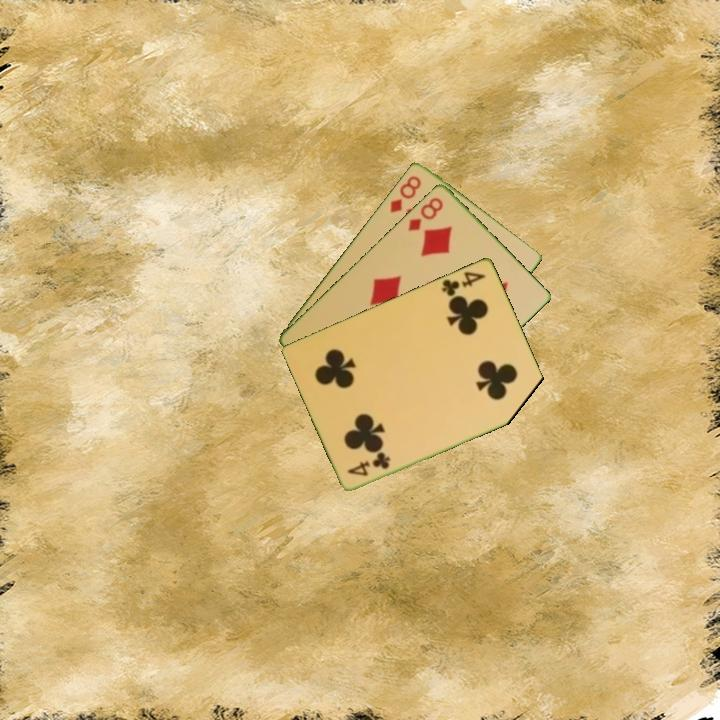4c: (439, 267, 488, 299), (344, 449, 393, 479)
8d: (404, 193, 446, 234), (386, 172, 424, 215)
